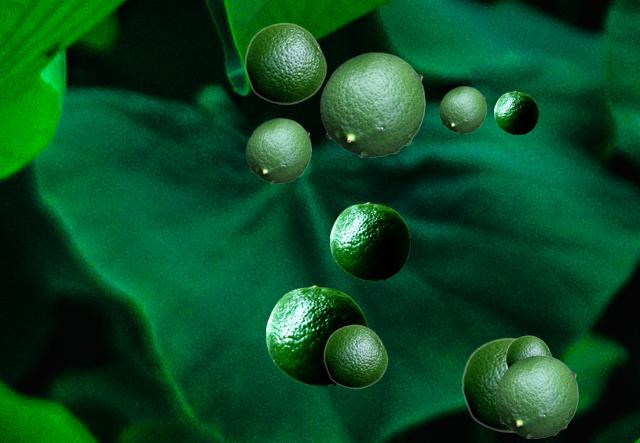calamansi: (320, 52, 424, 156), (266, 285, 367, 384), (244, 22, 326, 104), (495, 355, 577, 437), (330, 202, 409, 279), (461, 337, 514, 432), (246, 118, 310, 182), (323, 324, 387, 388), (439, 86, 485, 132), (494, 91, 537, 133), (505, 335, 552, 367)
